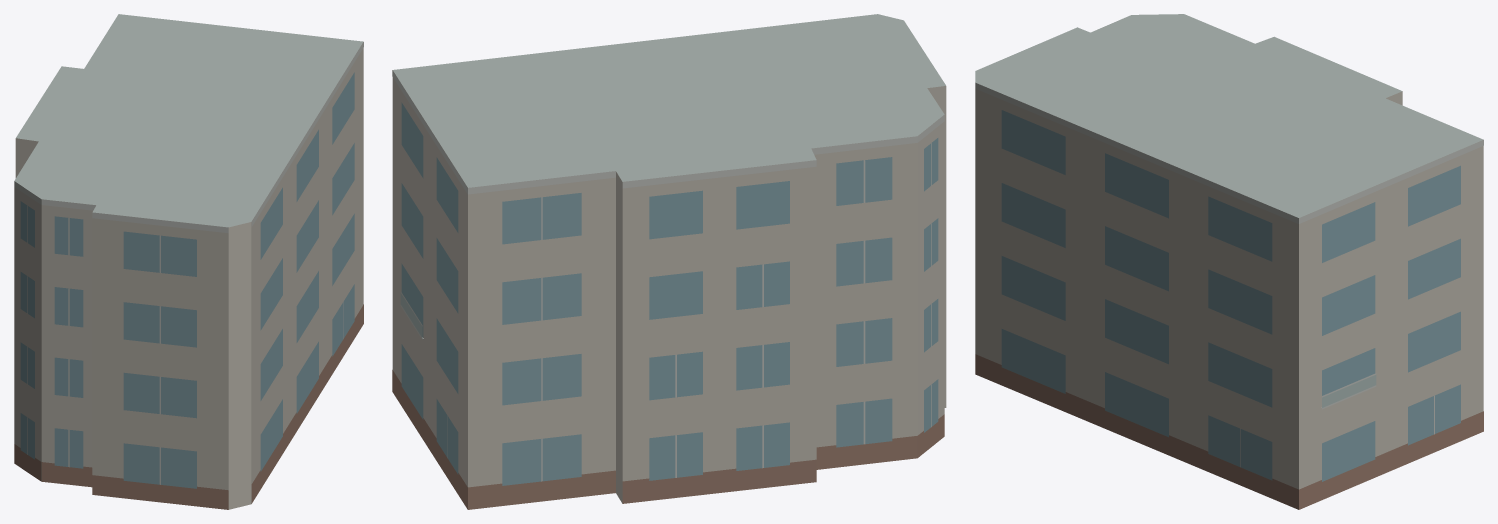
Rendered from survey-upis-32761977.glb.
The picture shows the model from 3 angles, left to right: view 1: azimuth 30°, elevation 25°; view 2: azimuth 150°, elevation 25°; view 3: azimuth 270°, elevation 25°; orthographic projection. The views are drawn at different scales.
Visible parts, largest first — view 1: survey-upis-32761977.tmp; view 2: survey-upis-32761977.tmp; view 3: survey-upis-32761977.tmp.
Boxes of the visible parts, left/top/right/bottom form: survey-upis-32761977.tmp: left=14, top=14, right=363, bottom=509; survey-upis-32761977.tmp: left=392, top=14, right=946, bottom=509; survey-upis-32761977.tmp: left=975, top=14, right=1483, bottom=509.
Size of the model in its own units: 17.8 by 11.86 by 18.75.
